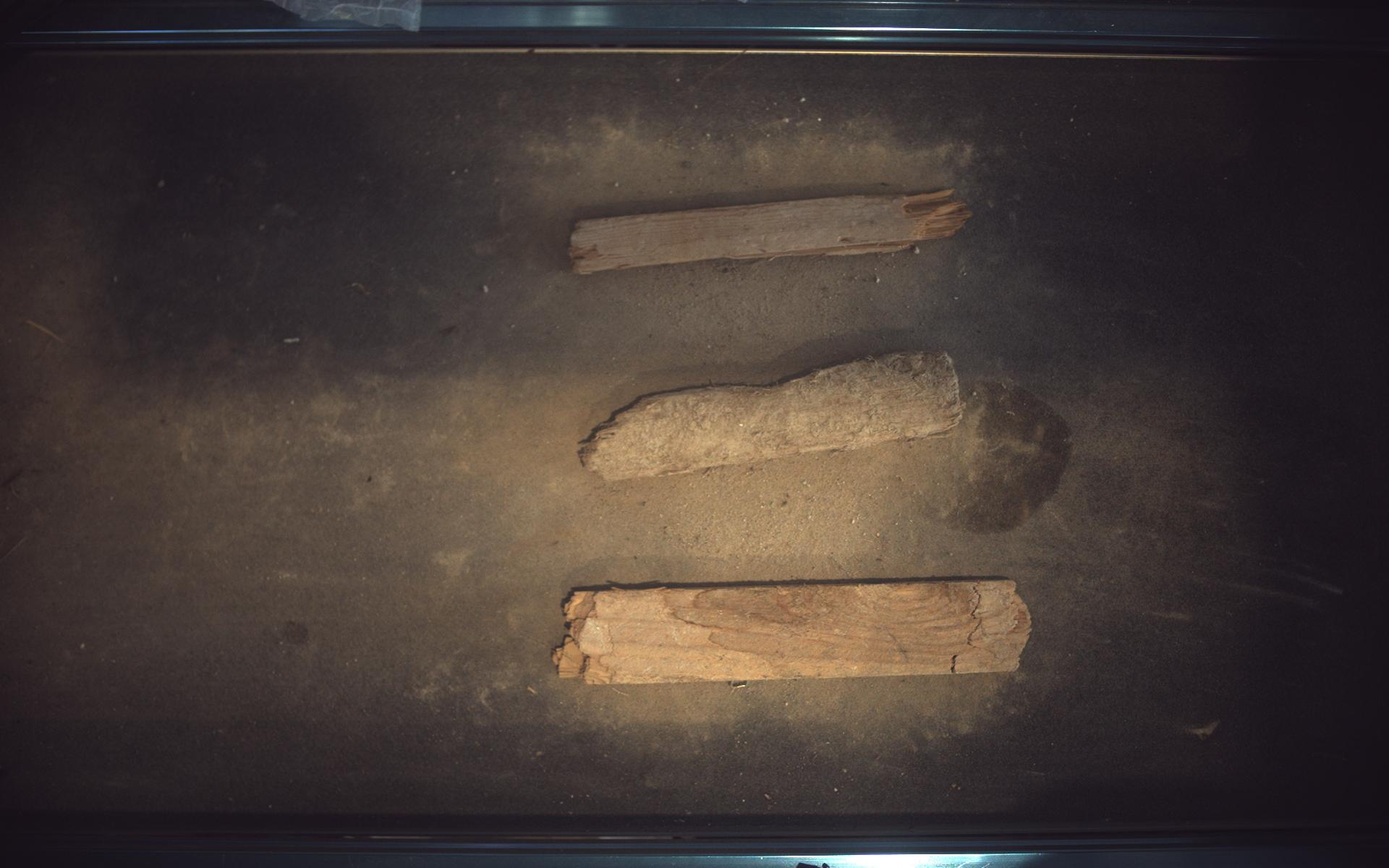wood: (553, 580, 1033, 686), (580, 352, 965, 481), (570, 189, 974, 273)
